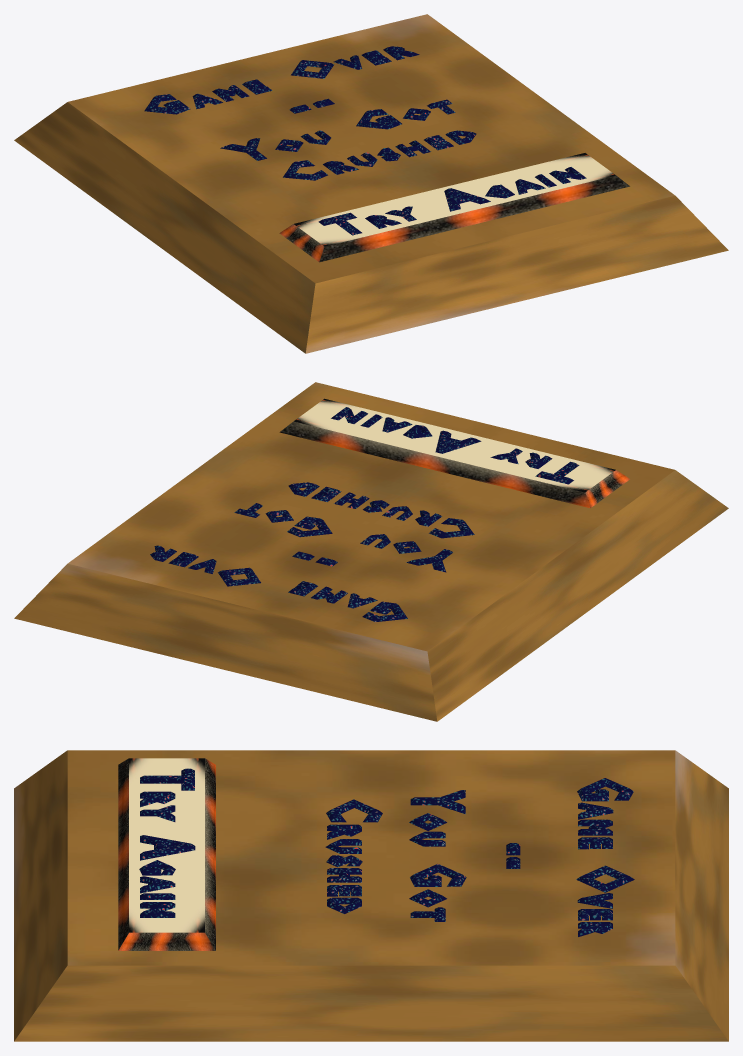
File: GameOverScrn.fbx
The picture shows the model from 3 angles, top to bottom: view 1: azimuth 30°, elevation 25°; view 2: azimuth 150°, elevation 25°; view 3: azimuth 270°, elevation 25°; orthographic projection. The views are drawn at different scales.
Parts seen in each view (by area): view 1: Game-Over, Btn1, GameOver; view 2: Game-Over, Btn1, GameOver; view 3: Game-Over, Btn1, GameOver.
Boxes of the visible parts, left/top/right/bottom form: Game-Over: left=14, top=14, right=728, bottom=353; Btn1: left=279, top=153, right=629, bottom=262; GameOver: left=144, top=46, right=586, bottom=235; Game-Over: left=14, top=382, right=728, bottom=721; Btn1: left=279, top=398, right=629, bottom=508; GameOver: left=150, top=407, right=579, bottom=622; Game-Over: left=14, top=750, right=728, bottom=1041; Btn1: left=118, top=758, right=215, bottom=950; GameOver: left=139, top=768, right=634, bottom=936.
Bounding box in the file's own units: 48.31 × 6.5 × 57.64.
3 materials, 3 textured.
